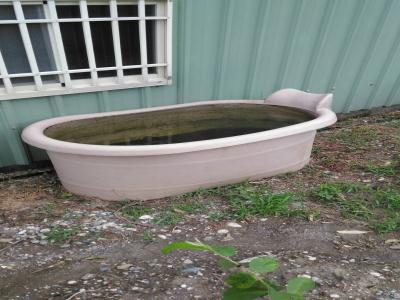tub: (19, 86, 338, 201)
